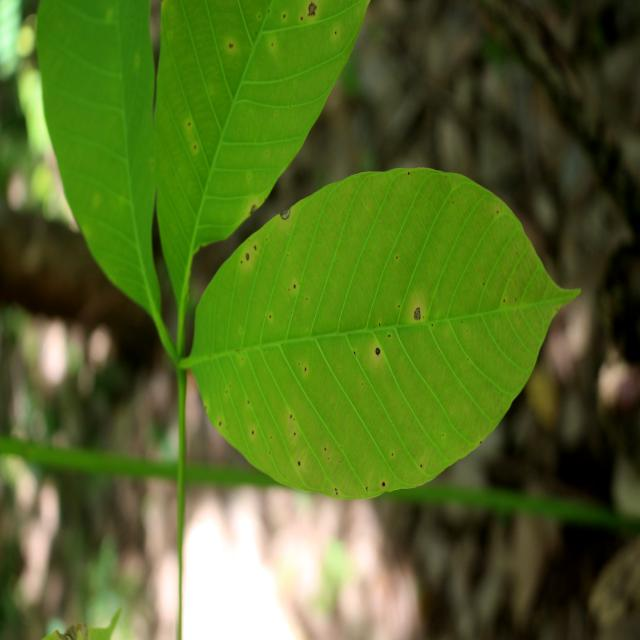Colletotrichum: (376, 348, 380, 355)
